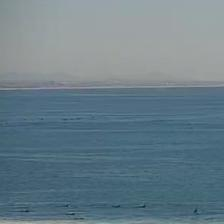surfer: (136, 204, 148, 208), (64, 212, 74, 216), (111, 204, 120, 208), (75, 216, 84, 220), (62, 204, 70, 208), (21, 210, 31, 213), (194, 208, 197, 213)
